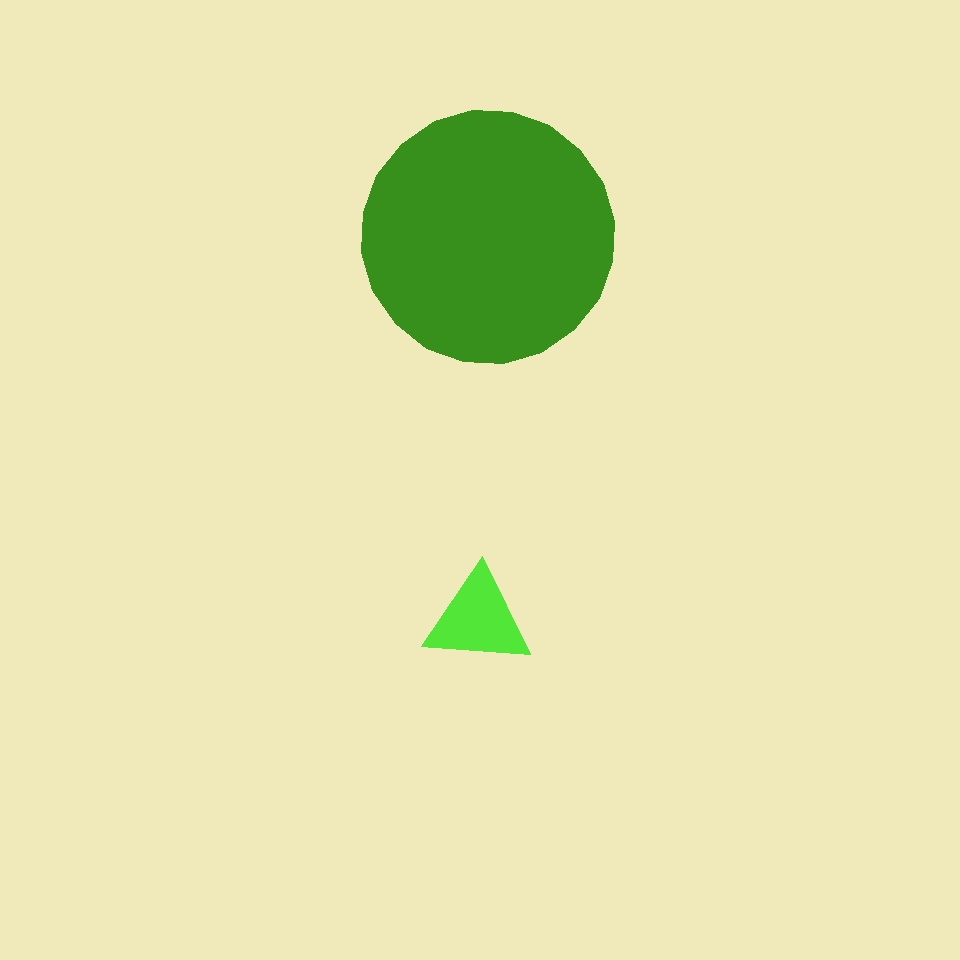circle: (615, 493, 921, 770), (684, 607, 906, 860), (424, 570, 532, 668)
square: (387, 454, 658, 725), (226, 640, 327, 742)
triangle: (187, 293, 500, 606), (361, 110, 614, 364), (542, 124, 790, 372)
